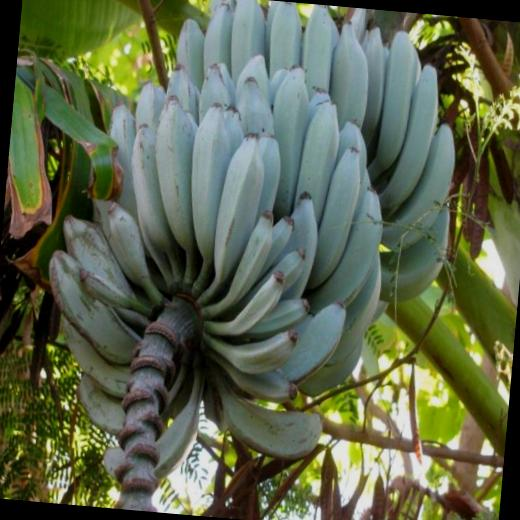Banana: (56, 0, 444, 470)
